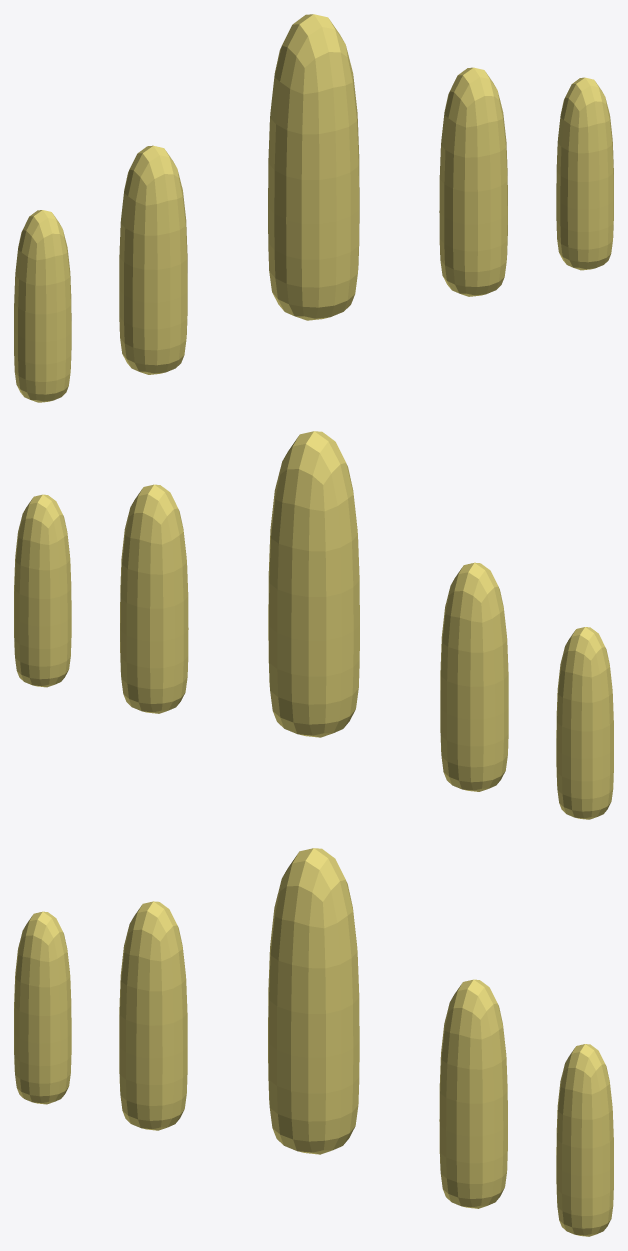
Rendered from Candles.glb.
3 views of the same model, one above another, from view 1: azimuth 30°, elevation 25°; view 2: azimuth 150°, elevation 25°; view 3: azimuth 330°, elevation 25° (orthographic).
Visible parts, largest first — view 1: candlle.004; view 2: candlle.004; view 3: candlle.004.
Part boxes in pixels (left/top/right/bottom): candlle.004: left=14, top=14, right=613, bottom=402; candlle.004: left=14, top=431, right=613, bottom=819; candlle.004: left=14, top=848, right=613, bottom=1236.
Bounding box in the file's own units: 13.77 × 7.08 × 1.83.
